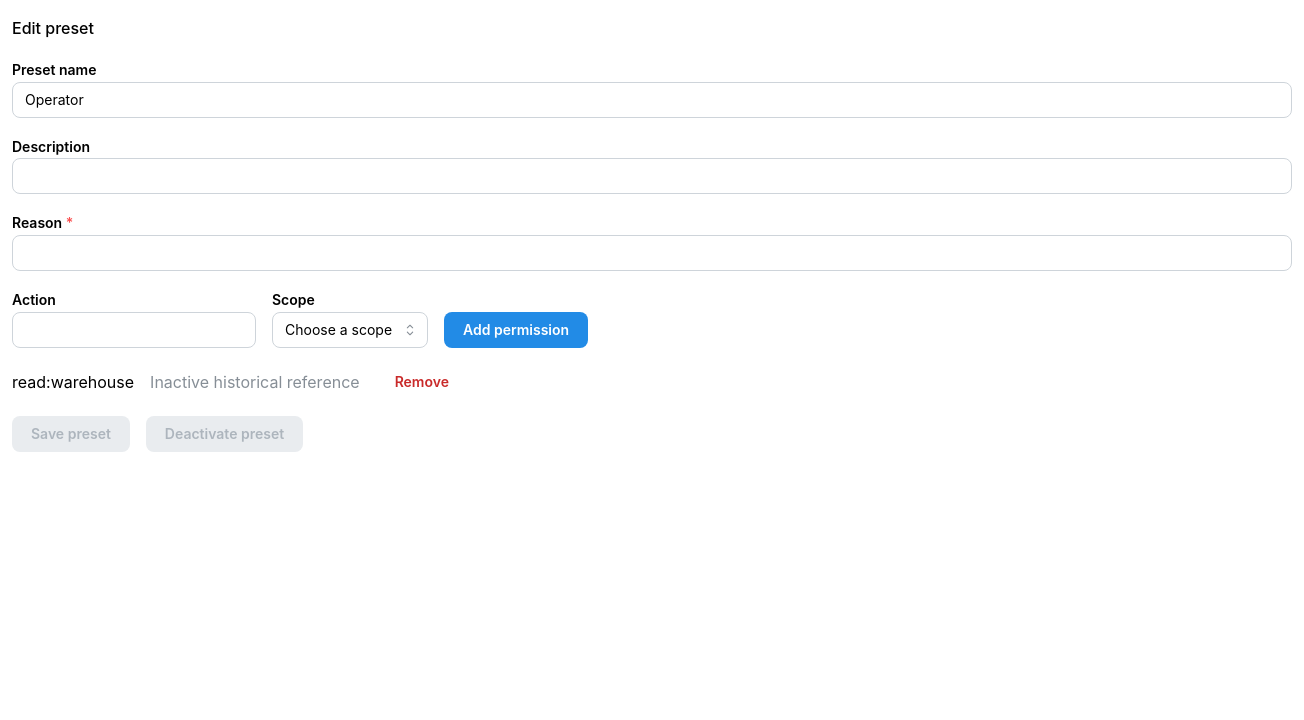
Test: PresetWorkflow › retains rejected inactive references until they are removed
This screenshot has width=1304, height=720.
Expected: the text "Inactive historical reference" is shown, [150,370,360,394]
Type "Edit preset" into the field labelled "Reason *".
click(652, 253); type("Edit preset")  # box [12,235,1292,271]
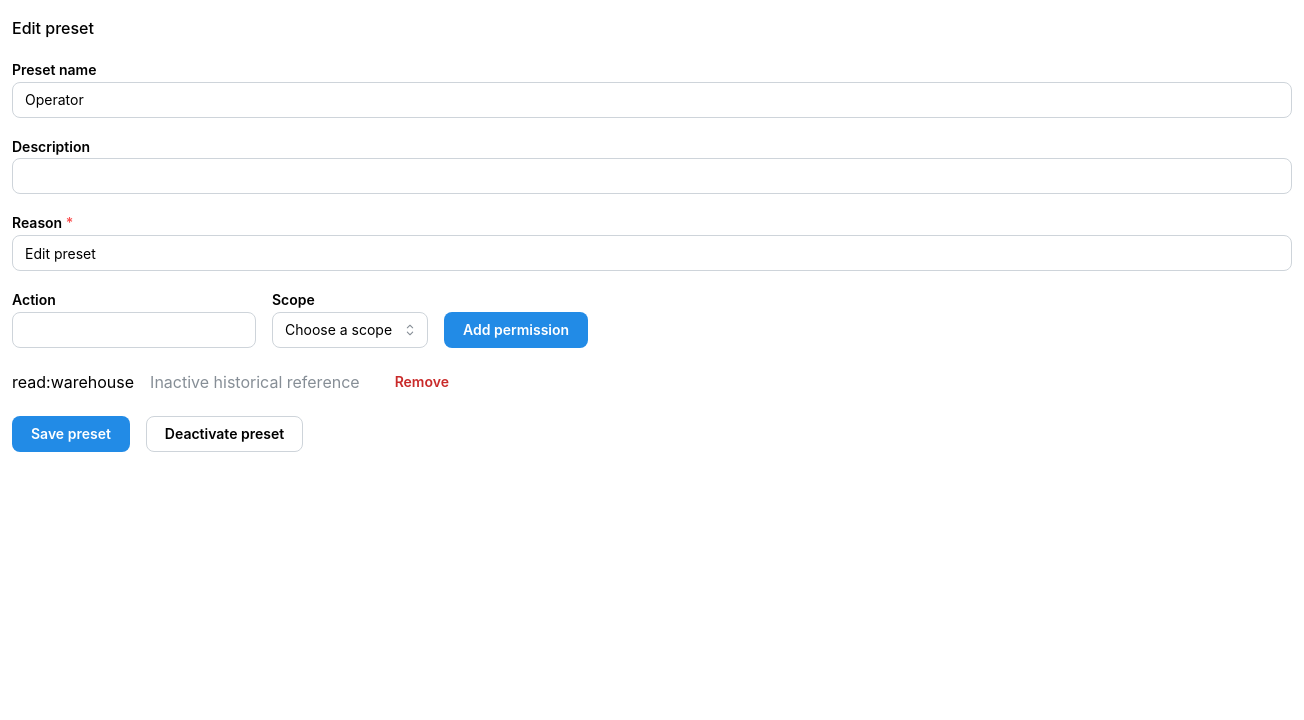
Click the button "Save preset".
click(71, 434)  # box [12,416,130,452]
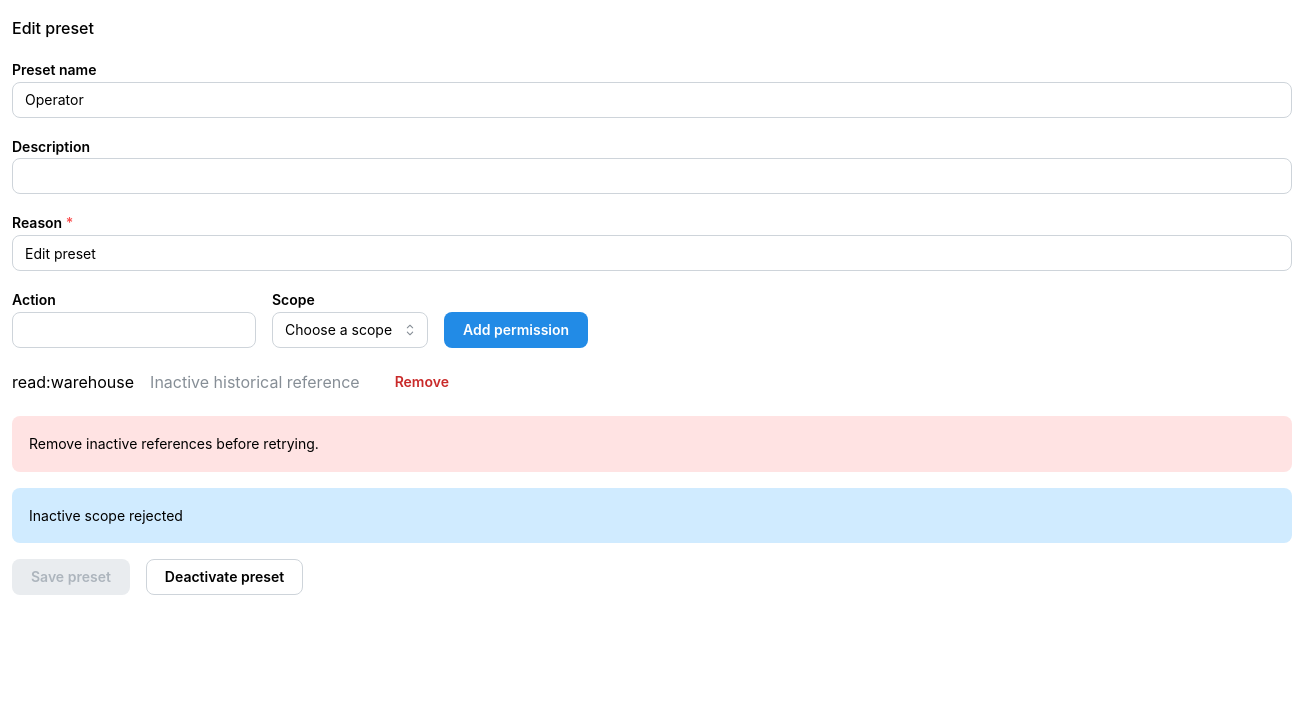
Expected: the text "Inactive scope rejected" is shown, [29,507,183,524]
Expected: the button "Save preset" is disabled, [12,559,130,595]
Click the button with aria-label "Remove read:warehouse".
click(422, 382)  # box [376,364,468,400]
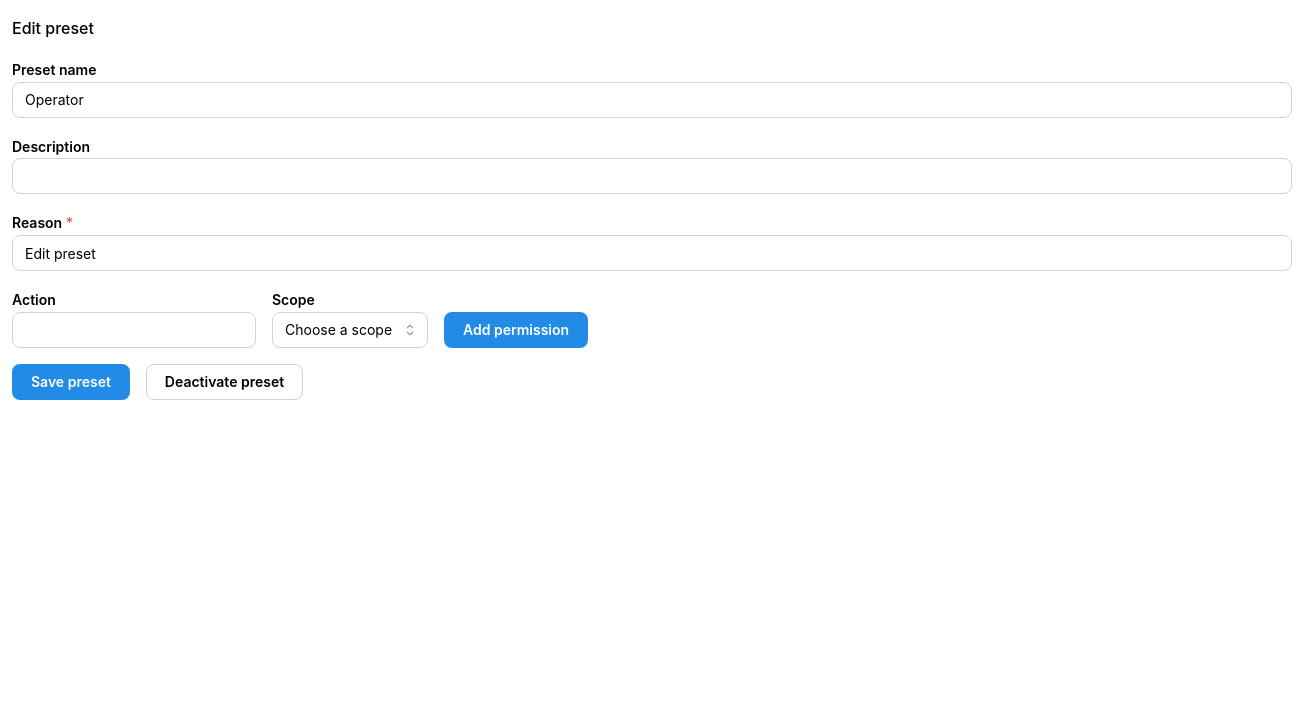
Expected: the button "Save preset" is enabled, [12,364,130,400]
